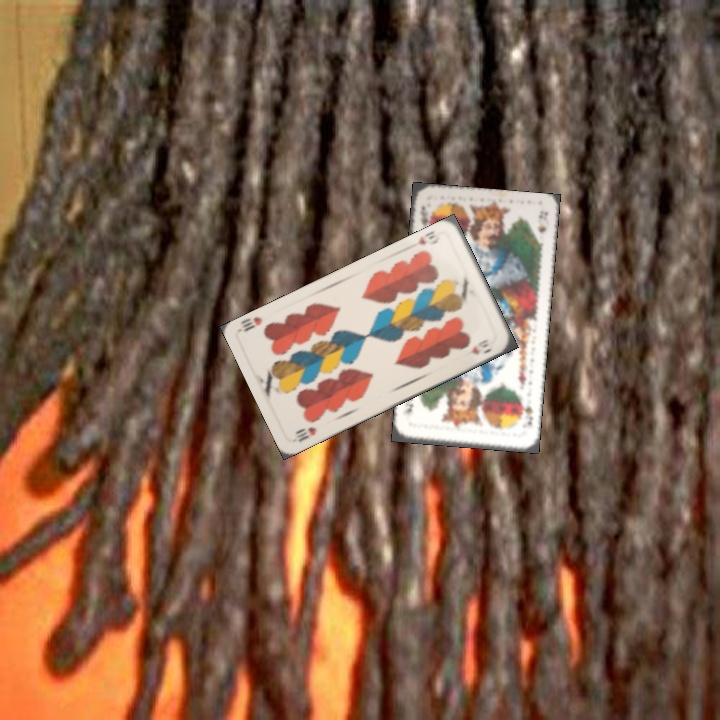H10: (406, 227, 443, 250), (291, 423, 319, 445)
SK: (517, 395, 536, 428), (416, 202, 433, 228)
